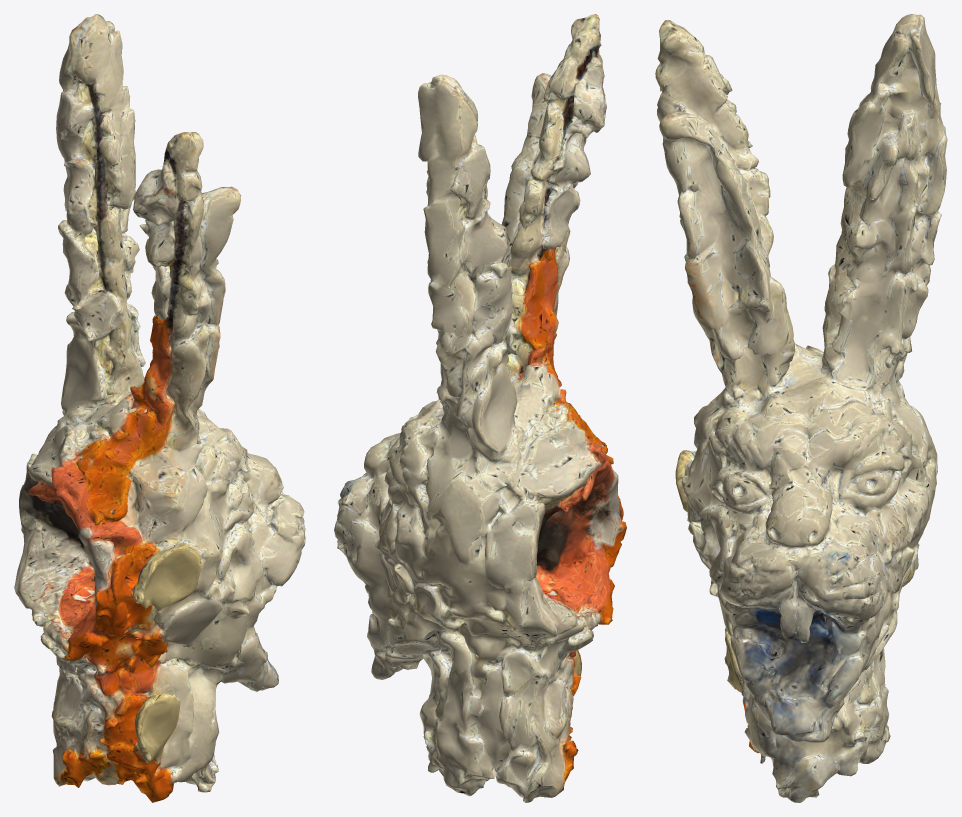
Rendered from 01_kwak_juggling2.glb.
The picture shows the model from 3 angles, left to right: view 1: azimuth 30°, elevation 25°; view 2: azimuth 150°, elevation 25°; view 3: azimuth 270°, elevation 25°; orthographic projection. The views are drawn at different scales.
Parts seen in each view (by area): view 1: 곽인탄, 저글링 2 (토끼 머리), 2023, 레진, 36×12×1; view 2: 곽인탄, 저글링 2 (토끼 머리), 2023, 레진, 36×12×1; view 3: 곽인탄, 저글링 2 (토끼 머리), 2023, 레진, 36×12×1.
Boxes of the visible parts, x1=… form: 곽인탄, 저글링 2 (토끼 머리), 2023, 레진, 36×12×1: x1=14, y1=14, x2=305, y2=802; 곽인탄, 저글링 2 (토끼 머리), 2023, 레진, 36×12×1: x1=334, y1=14, x2=626, y2=802; 곽인탄, 저글링 2 (토끼 머리), 2023, 레진, 36×12×1: x1=655, y1=14, x2=947, y2=802.
Bounding box in the file's own units: 6.35 × 18.26 × 6.35.
1 material, 1 textured.
